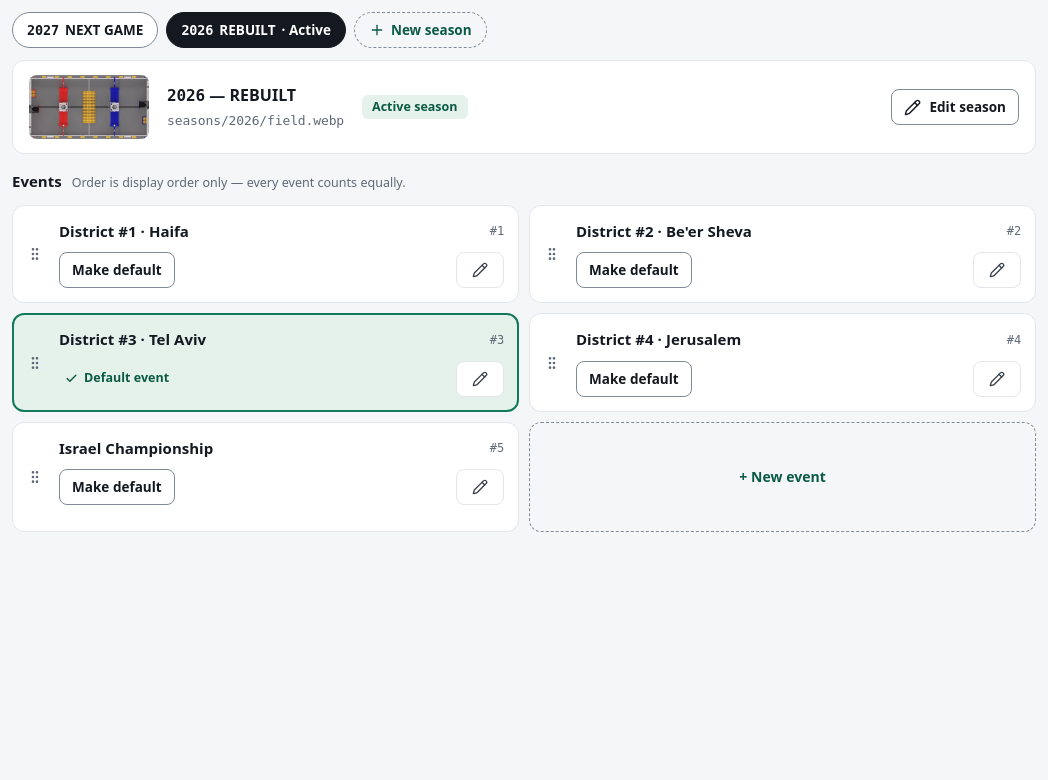
Scenario: CompetitionsPanel — events › puts the old default back when the server refuses
The width and height of the screenshot is (1048, 780).
Click the button "Make default" below "District #4 · Jerusalem". click: (634, 379)
box: [576, 361, 692, 397]
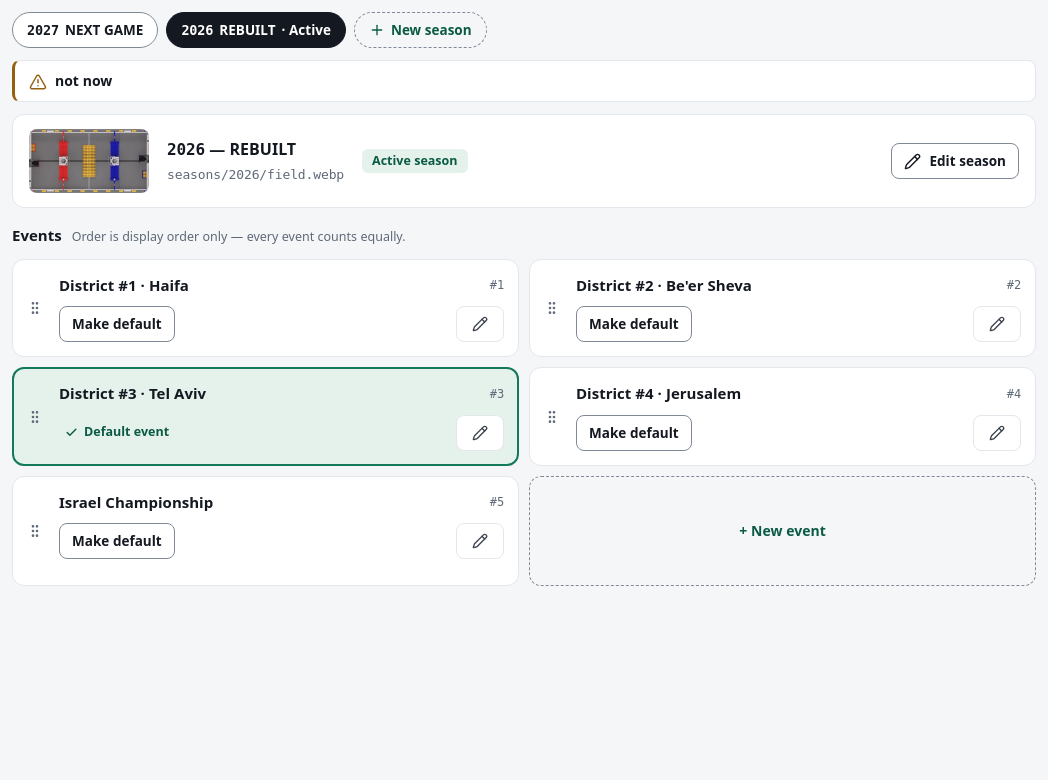
Check: the text "Default event" is shown, box [59, 421, 175, 445]
Check: the message reads "not now", box [55, 71, 112, 90]
